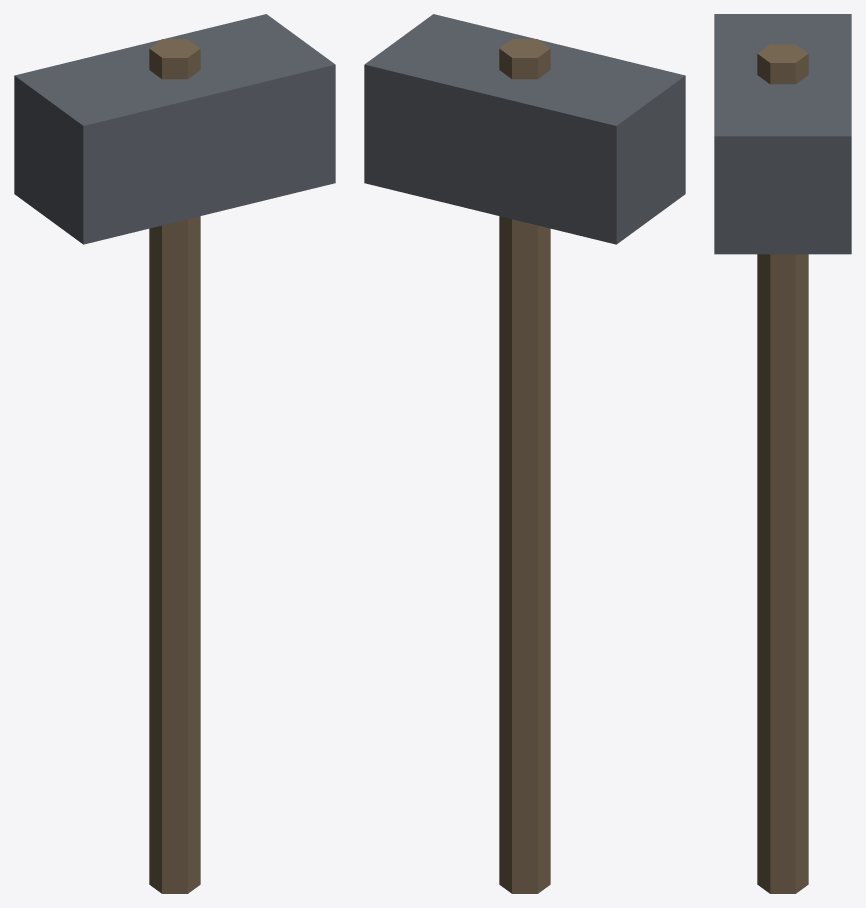
The model's file is Hammer.fbx.
The picture shows the model from 3 angles, left to right: view 1: azimuth 30°, elevation 25°; view 2: azimuth 150°, elevation 25°; view 3: azimuth 270°, elevation 25°; orthographic projection.
Parts seen in each view (by area): view 1: Hammer; view 2: Hammer; view 3: Hammer.
Boxes of the visible parts, bbox=[...] form: Hammer: bbox=[14, 14, 335, 893]; Hammer: bbox=[364, 14, 685, 893]; Hammer: bbox=[714, 14, 851, 893].
Bounding box in the file's own units: 43.03 × 136 × 20.42.
